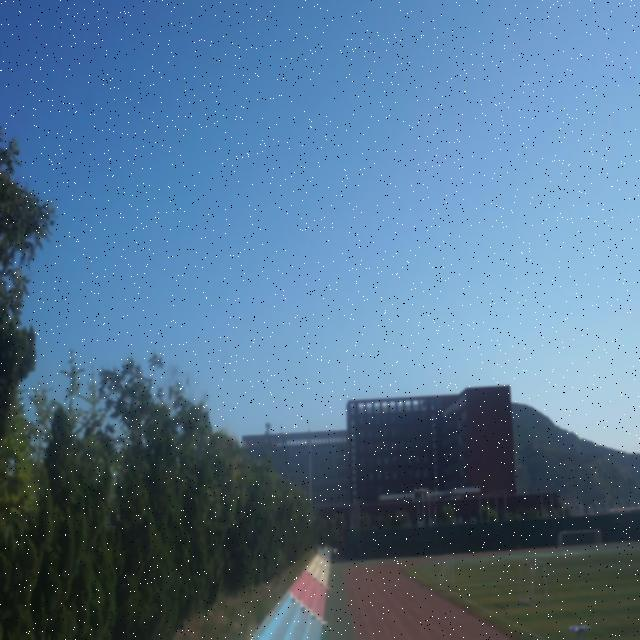UAV: (568, 625, 592, 640)
